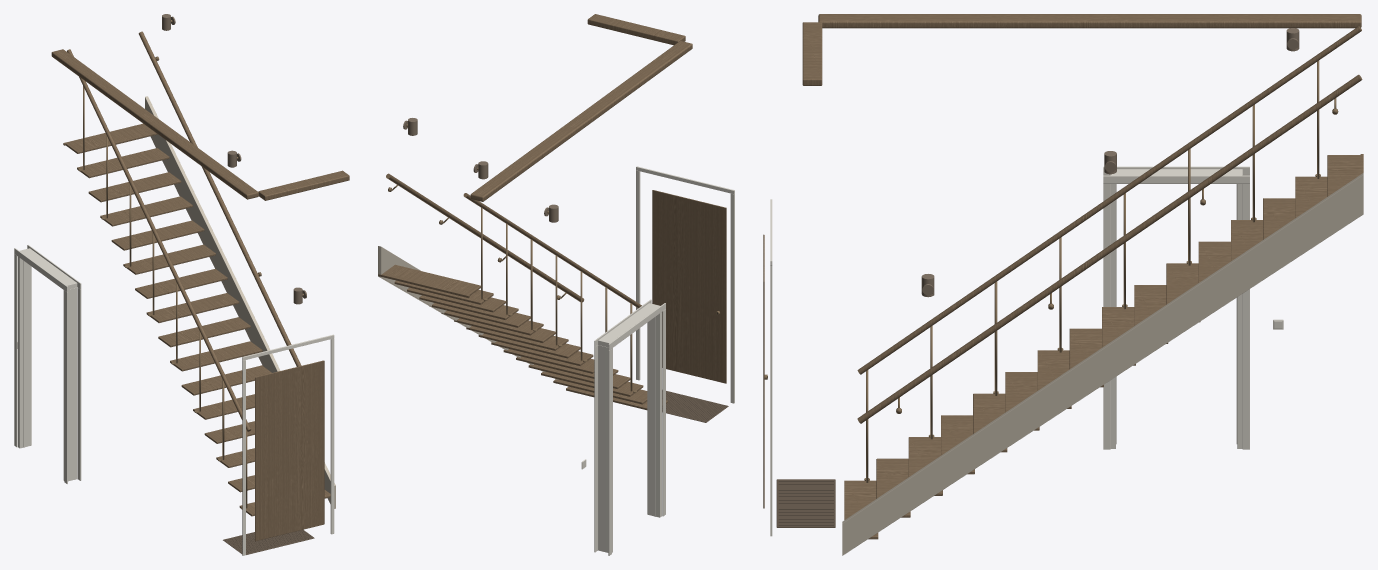
File: hal-trap.glb
3 renders of one model, left to right at view 1: azimuth 30°, elevation 25°; view 2: azimuth 150°, elevation 25°; view 3: azimuth 270°, elevation 25°, orthographic. The views are drawn at different scales.
Visible parts, largest first — view 1: H — voordeur eiken binnenpaneel, H — doorlopende wandwang, H — Trapgat leuning, H — Hal deur doorlopend kozijn.001, H — Hal deur doorlopend kozijn, H — Trap vrije leuning, H — Trap wandhandgreep, H — eiken trede 08, H — eiken trede 12, H — eiken trede 13, H — eiken trede 07, H — eiken trede 14 (+17 smaller); view 2: H — voordeur eiken binnenpaneel, H — Trapgat leuning, H — Hal deur doorlopend kozijn, H — Hal deur doorlopend kozijn.001, H — Trap wandhandgreep, H — deurmat terughoudend, H — Trapgat leuning voor gesloten hoek, H — eiken trede 16, H — afdeklijst voordeur, H — Trap vrije leuning, H — doorlopende wandwang, H — afdeklijst voordeur.001 (+19 smaller); view 3: H — doorlopende wandwang, H — Trapgat leuning, H — Trap wandhandgreep, H — Trap vrije leuning, H — deurmat terughoudend, H — Hal deur afdeklijst stijl.003, H — Hal deur afdeklijst stijl.002, H — Trapgat leuning voor gesloten hoek, H — Hal deur doorlopend kozijn.001, H — Hal deur afdeklijst boven.001, H — eiken trede 16, H — Hal deur doorlopend kozijn (+17 smaller).
Part boxes in pixels (box(x1,y1,x2,y2)): H — voordeur eiken binnenpaneel: box(255, 360, 324, 541); H — doorlopende wandwang: box(145, 96, 335, 508); H — Trapgat leuning: box(51, 49, 258, 199); H — Hal deur doorlopend kozijn.001: box(18, 257, 31, 448); H — Hal deur doorlopend kozijn: box(63, 287, 77, 481); H — Trap vrije leuning: box(67, 49, 250, 431); H — Trap wandhandgreep: box(138, 31, 301, 366); H — eiken trede 08: box(158, 317, 250, 347); H — eiken trede 12: box(111, 220, 204, 250); H — eiken trede 13: box(100, 196, 192, 226); H — eiken trede 07: box(170, 341, 262, 371); H — eiken trede 14: box(88, 172, 181, 202); H — voordeur eiken binnenpaneel: box(652, 190, 726, 383); H — Trapgat leuning: box(470, 41, 692, 201); H — Hal deur doorlopend kozijn: box(647, 312, 661, 517); H — Hal deur doorlopend kozijn.001: box(598, 345, 612, 552); H — Trap wandhandgreep: box(386, 173, 584, 302); H — deurmat terughoudend: box(662, 390, 728, 422); H — Trapgat leuning voor gesloten hoek: box(587, 14, 685, 45); H — eiken trede 16: box(383, 264, 481, 295); H — afdeklijst voordeur: box(730, 193, 734, 403); H — Trap vrije leuning: box(463, 193, 641, 308); H — doorlopende wandwang: box(378, 246, 558, 379); H — afdeklijst voordeur.001: box(636, 170, 640, 380); H — doorlopende wandwang: box(842, 173, 1363, 555); H — Trapgat leuning: box(818, 14, 1361, 28); H — Trap wandhandgreep: box(857, 74, 1362, 423); H — Trap vrije leuning: box(857, 26, 1361, 374); H — deurmat terughoudend: box(776, 479, 835, 527); H — Hal deur afdeklijst stijl.003: box(1242, 184, 1249, 449); H — Hal deur afdeklijst stijl.002: box(1103, 184, 1110, 449); H — Trapgat leuning voor gesloten hoek: box(802, 22, 822, 85); H — Hal deur doorlopend kozijn.001: box(1237, 184, 1242, 448); H — Hal deur afdeklijst boven.001: box(1103, 175, 1249, 183); H — eiken trede 16: box(1327, 155, 1361, 196); H — Hal deur doorlopend kozijn: box(1110, 184, 1115, 448).
Bounding box in the file's own units: 2.12 × 4.37 × 4.54.
8 materials, 1 textured.
